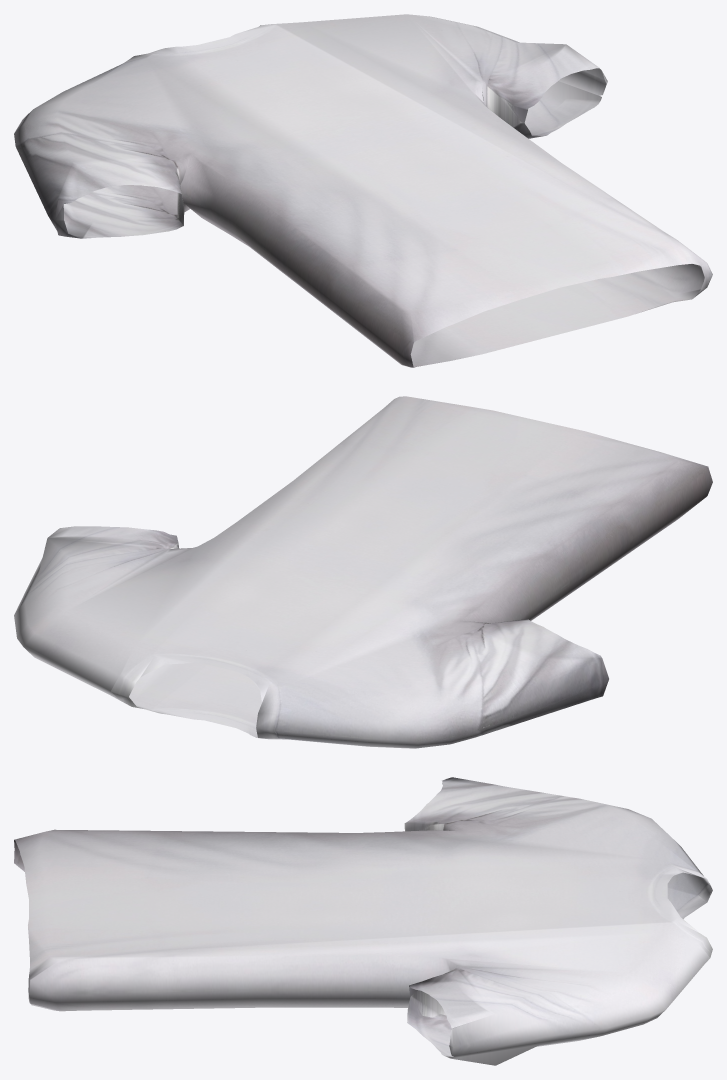
The model's file is tshirt.dae.
3 views of the same model, one above another, from view 1: azimuth 30°, elevation 25°; view 2: azimuth 150°, elevation 25°; view 3: azimuth 270°, elevation 25° (orthographic). The views are drawn at different scales.
Visible parts, largest first — view 1: Group_1, Group_2; view 2: Group_1, Group_2; view 3: Group_1, Group_2.
Boxes of the visible parts, x1,y1,x2,y2 form: Group_1: [14, 14, 712, 367]; Group_2: [124, 24, 275, 63]; Group_1: [14, 396, 712, 748]; Group_2: [111, 654, 279, 739]; Group_1: [14, 777, 709, 1065]; Group_2: [652, 865, 712, 957].
Bounding box in the file's own units: 92.58 × 106 × 8.98.
1 material, 1 textured.
